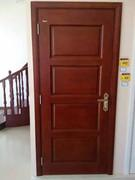door: (38, 7, 111, 172)
